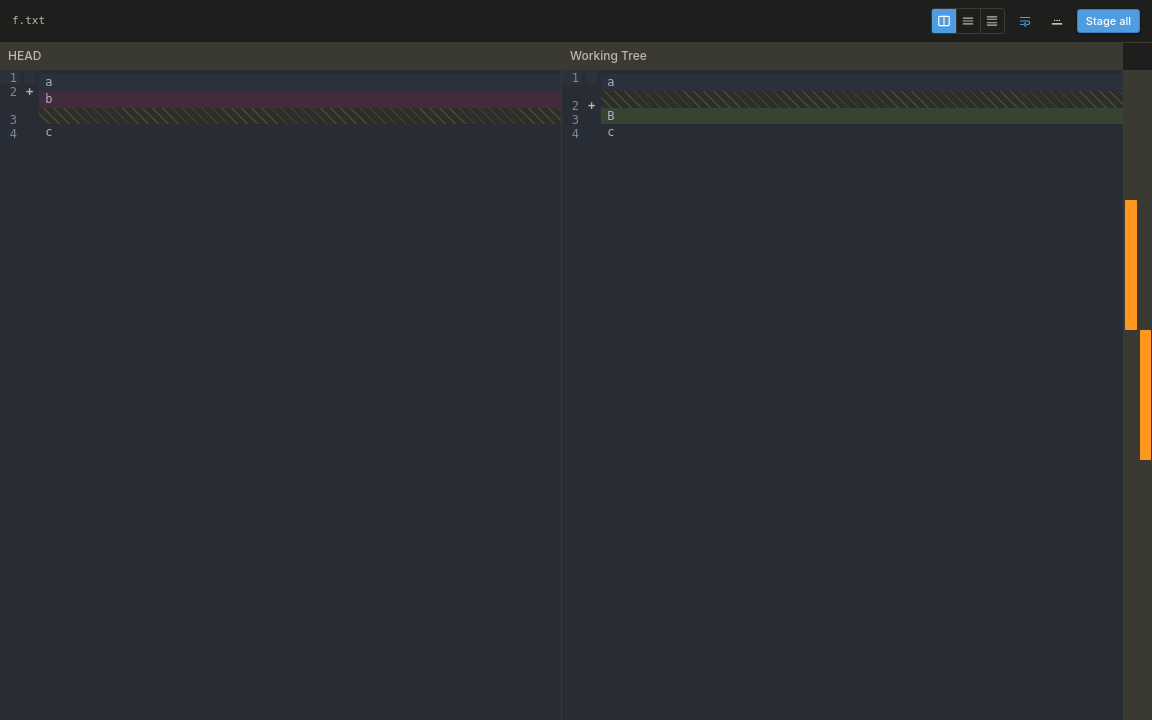
Test: StageFileEditor › shows added and removed lines together in the inline pane
Click the button named "Inline view". click: (968, 21)
box: [956,9,980,33]
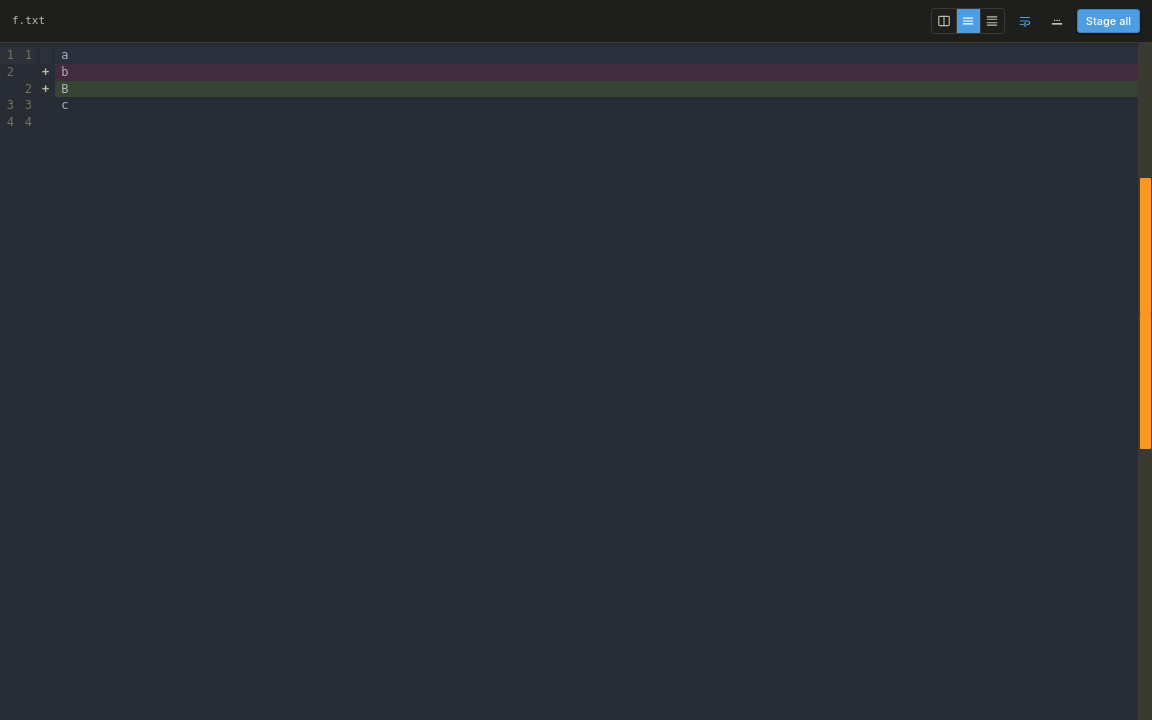
Expected: the text box with class "cm-diff-add-line" is shown, [55,81,1138,97]
Expected: the text box with class "cm-diff-placeholder-line" is gone
